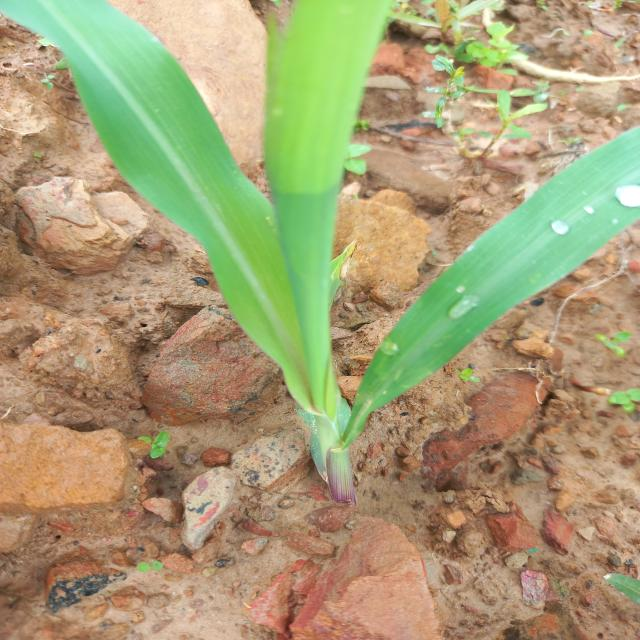maize: (0, 0, 640, 519)
weed: (412, 34, 546, 152), (460, 14, 540, 68), (417, 49, 469, 126), (479, 84, 538, 138), (131, 422, 191, 468), (587, 320, 629, 369), (606, 371, 640, 423), (452, 365, 488, 389), (130, 557, 171, 574)
